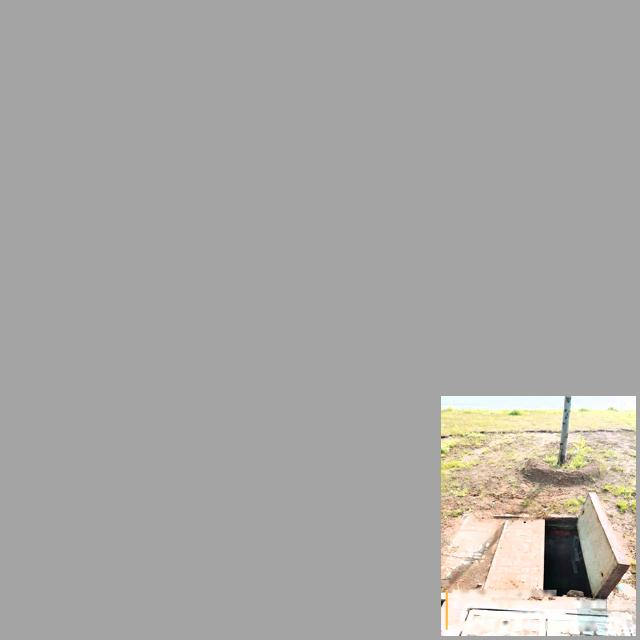uncovered: (442, 494, 633, 607)
